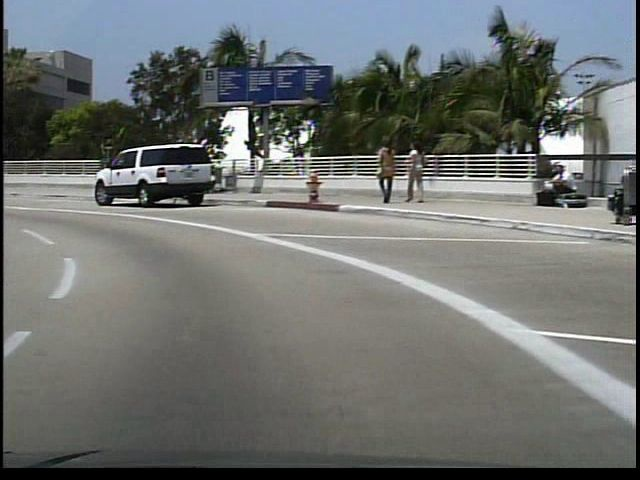person: (372, 136, 395, 210), (398, 141, 423, 206), (537, 163, 573, 208)
